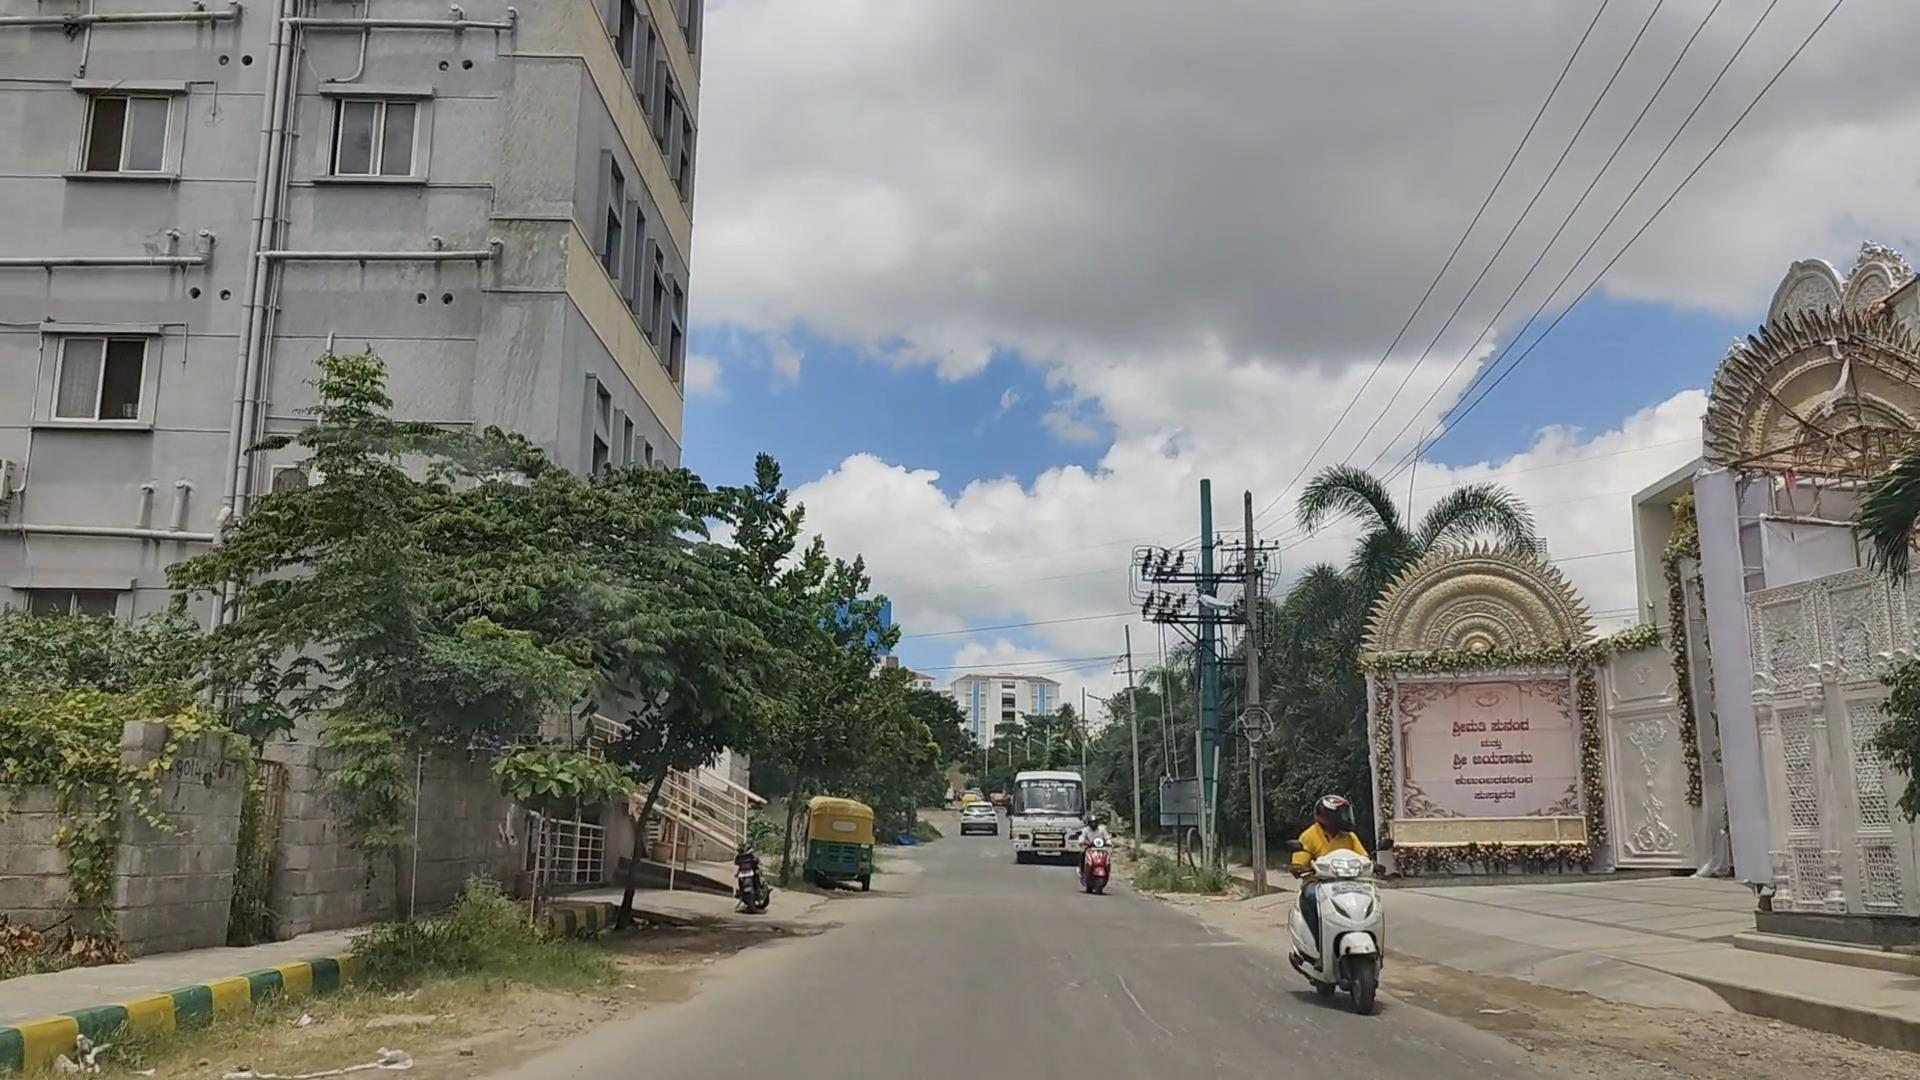RoadDamages: (1366, 985, 1705, 1080)
